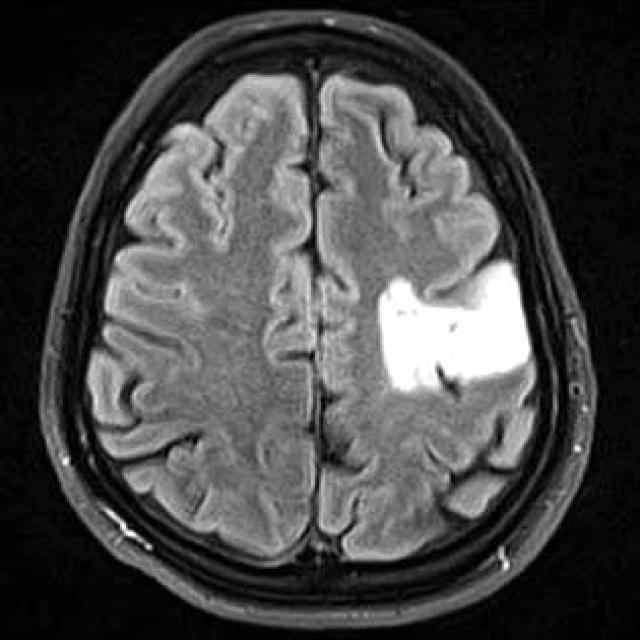brain tumor: (380, 261, 530, 388)
